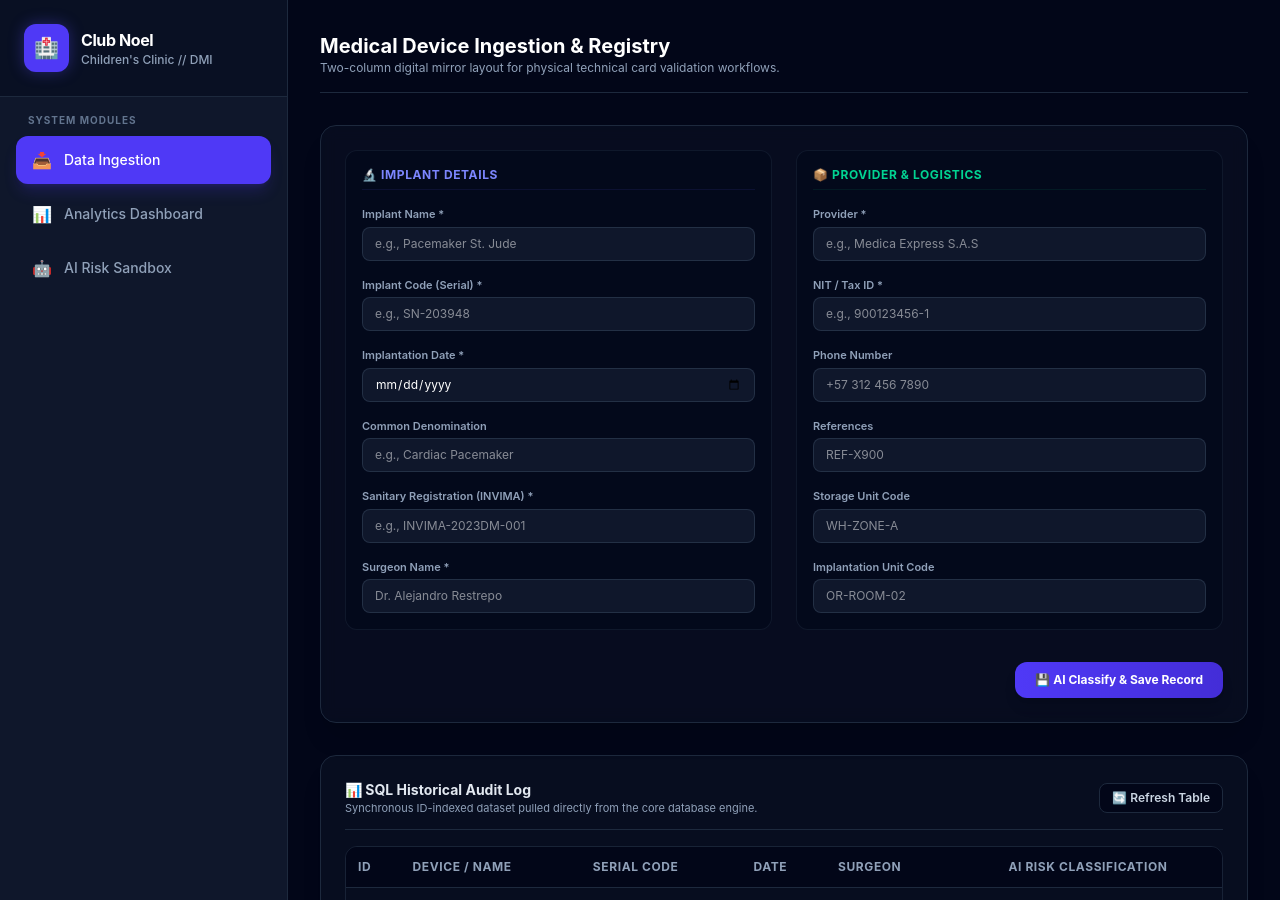
Test: Club Noel - Complete Frontend UI Integration Suite › 03 - navigates to Analytics Dashboard when tab is clicked
Click the button "📊 Analytics Dashboard" at {"x": 144, "y": 214}, box [16,190,271,238]
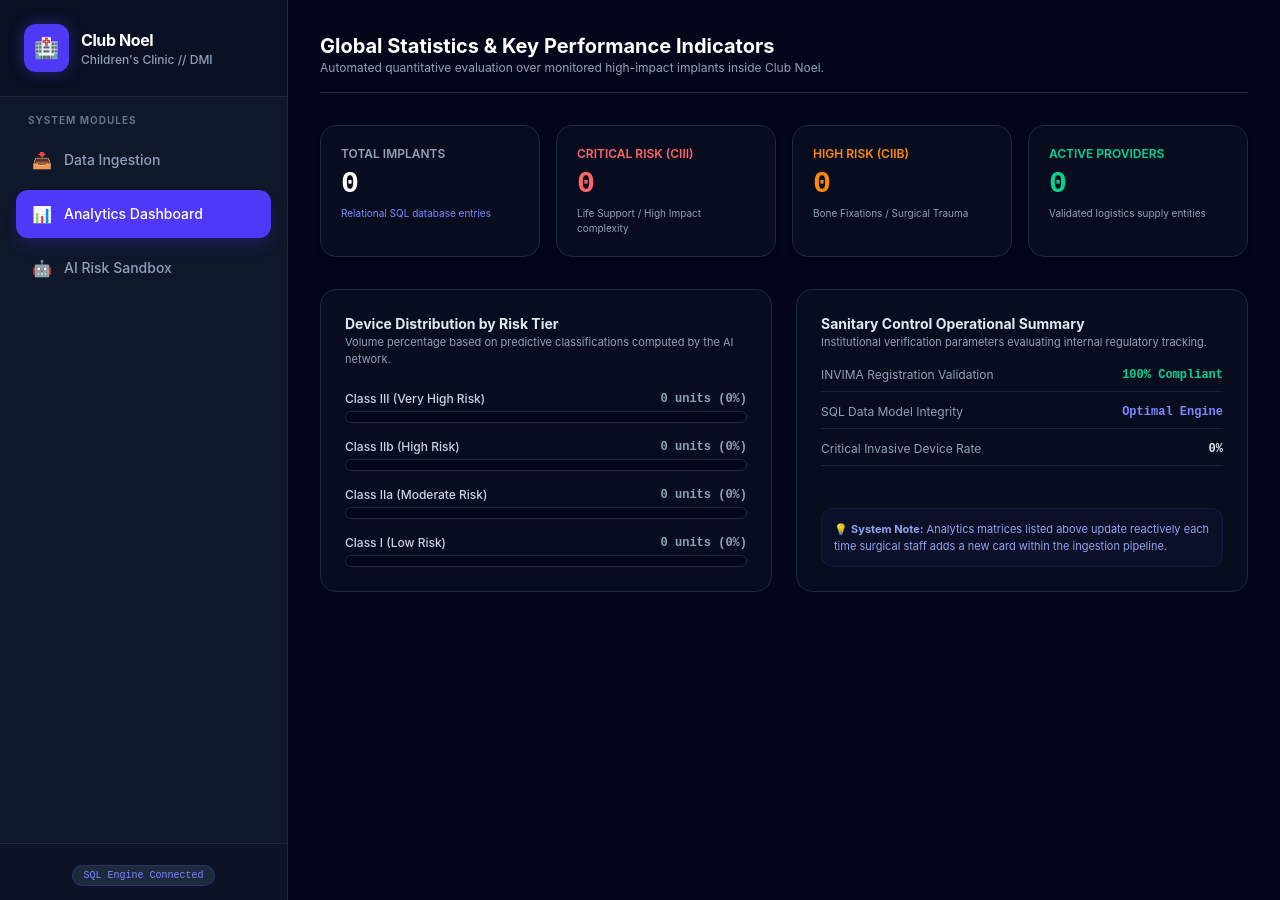
Result: the heading "Global Statistics & Key Performance Indicators" is shown at [320,34,774,58]
Result: the text "Total Implants" is shown at [341,146,445,161]
